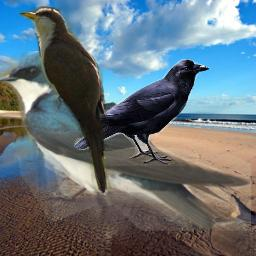Crow: (74, 59, 209, 166)
Cuckoo: (18, 6, 113, 197)
Swallow: (0, 51, 251, 231)
